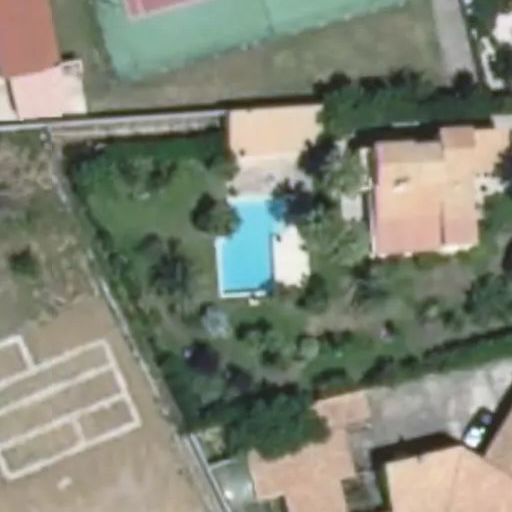pool: (217, 197, 295, 286)
